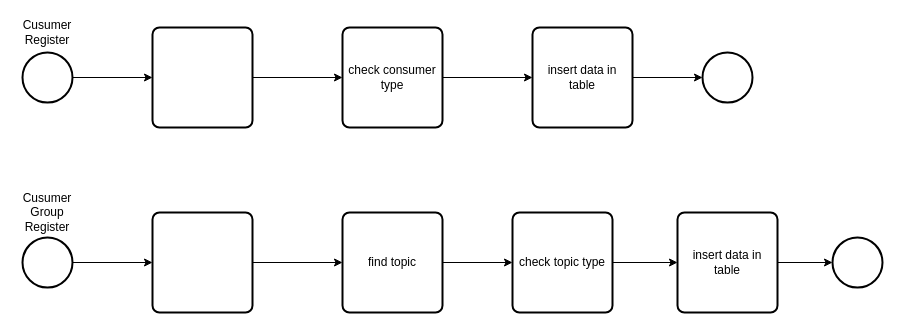
The diagram is 900 pixels wide and 330 high, and some of its shapes have lost their labels. The centre of each missing label's shape, as x and y in pixels:
"find comsumer group exist" goes at point (202, 262).
"find user exist" goes at point (202, 77).
